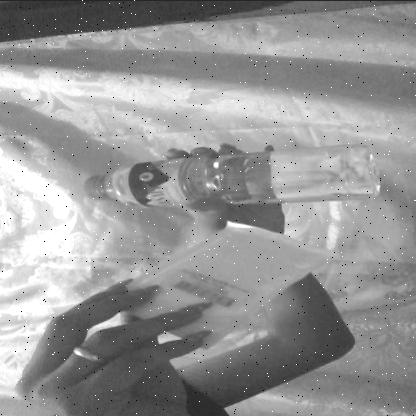Plastic Bottle: (58, 122, 408, 217)
